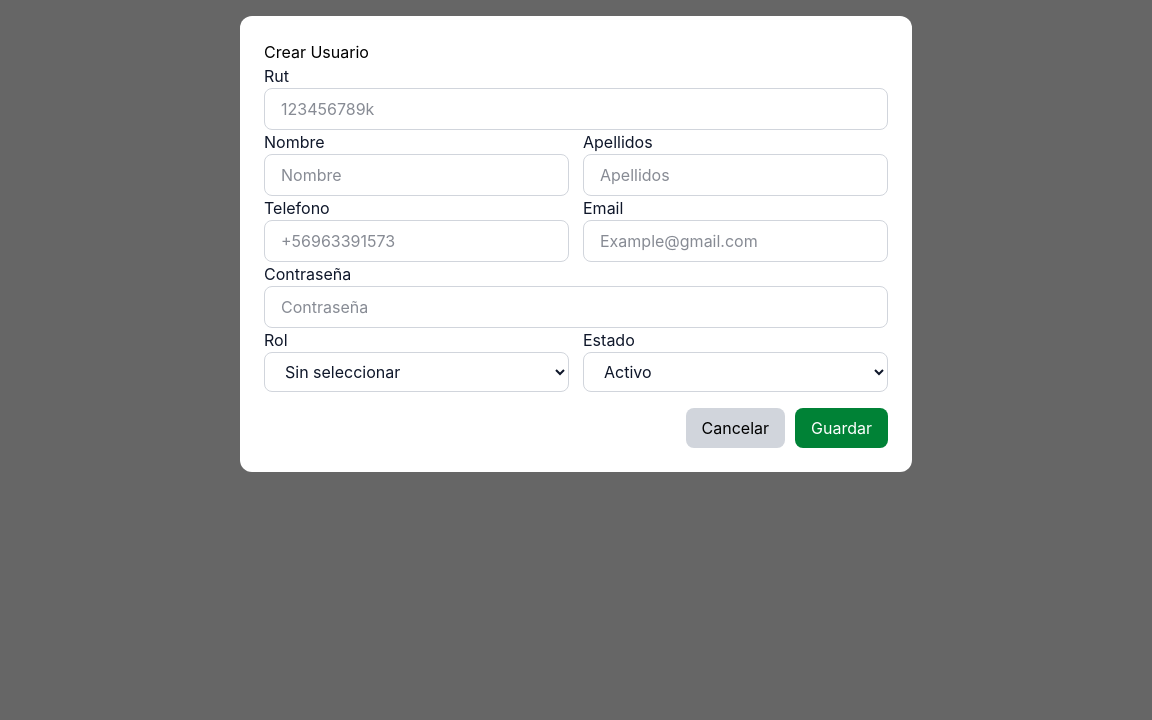
Test case: FormularioUsuario › Validaciones del Formulario › valida formatos incorrectos de RUT, teléfono, email y contraseña corta
This screenshot has width=1152, height=720.
Type "123" into the field labelled "Rut".
click(576, 109); type("123")  # box [264,88,888,130]
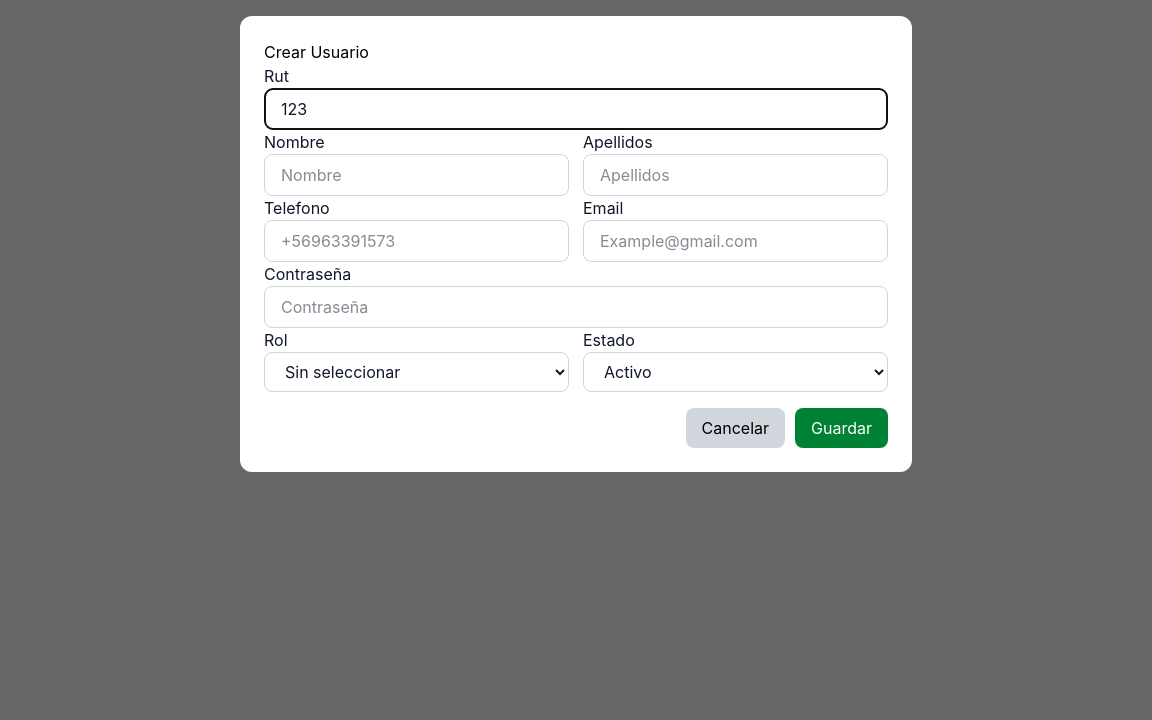
Type "+569123" into the field labelled "Telefono".
click(416, 241); type("+569123")  # box [264,220,569,262]
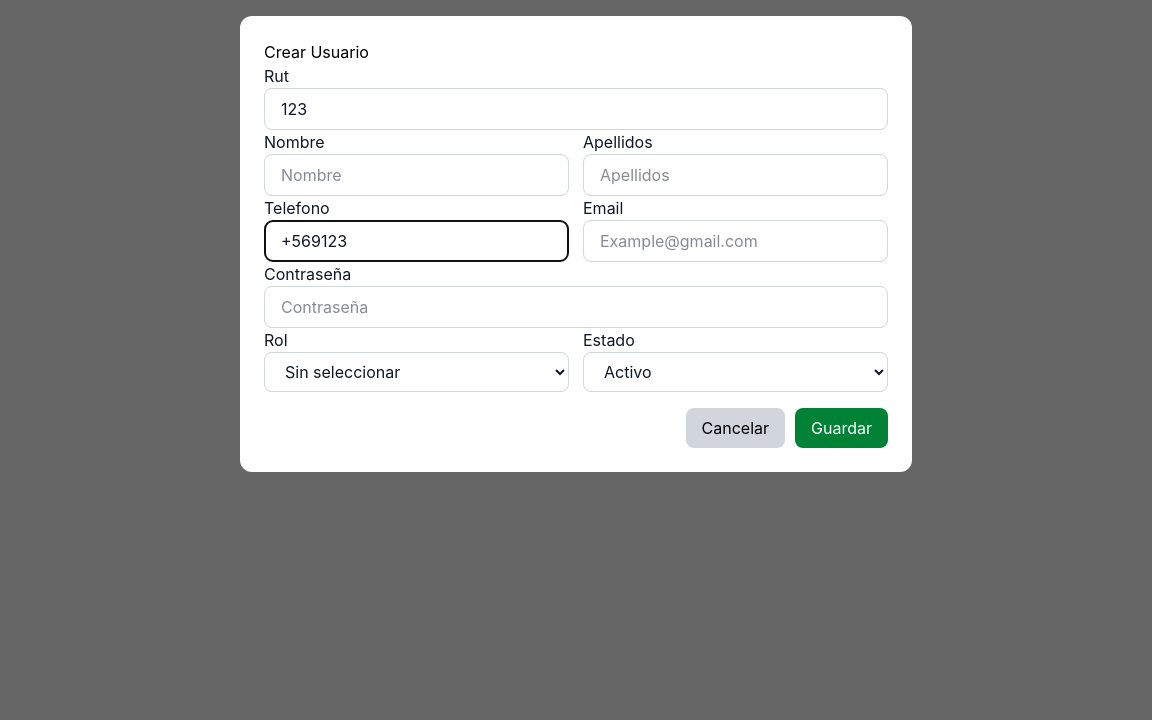
Type "correo.sin.arroba.com" into the field labelled "Email".
click(736, 241); type("correo.sin.arroba.com")  # box [583,220,888,262]
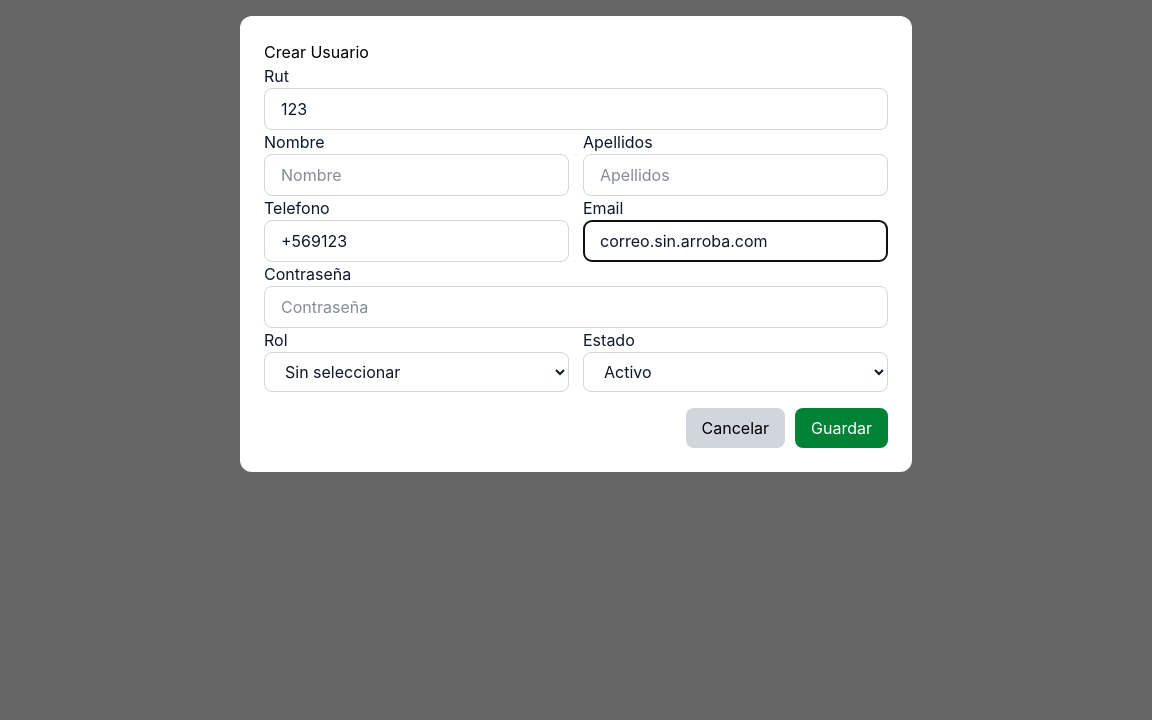
Type "12345" into the password field labelled "Contraseña".
click(576, 307); type("12345")  # box [264,286,888,328]
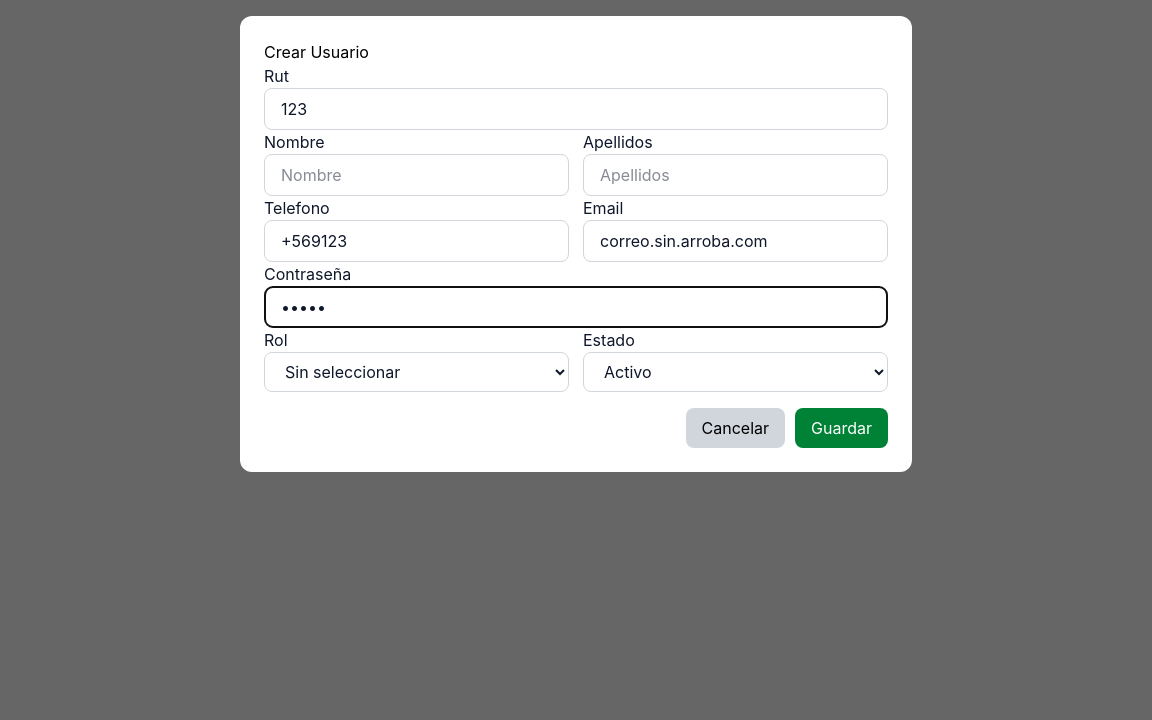
Click the button "Guardar".
click(842, 428)  # box [795,408,888,448]
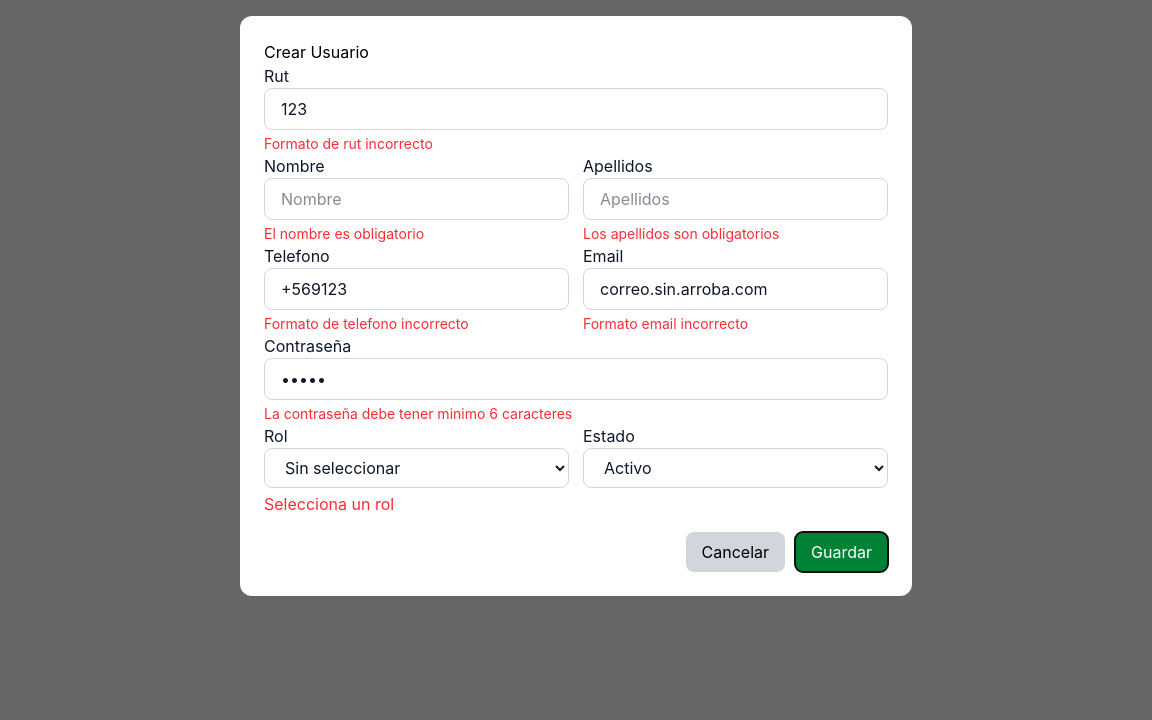
Expected: the text "Formato de rut incorrecto" is shown, [264,135,433,152]
Expected: the text "Formato de telefono incorrecto" is shown, [264,315,469,332]
Expected: the text "Formato email incorrecto" is shown, [583,315,748,332]
